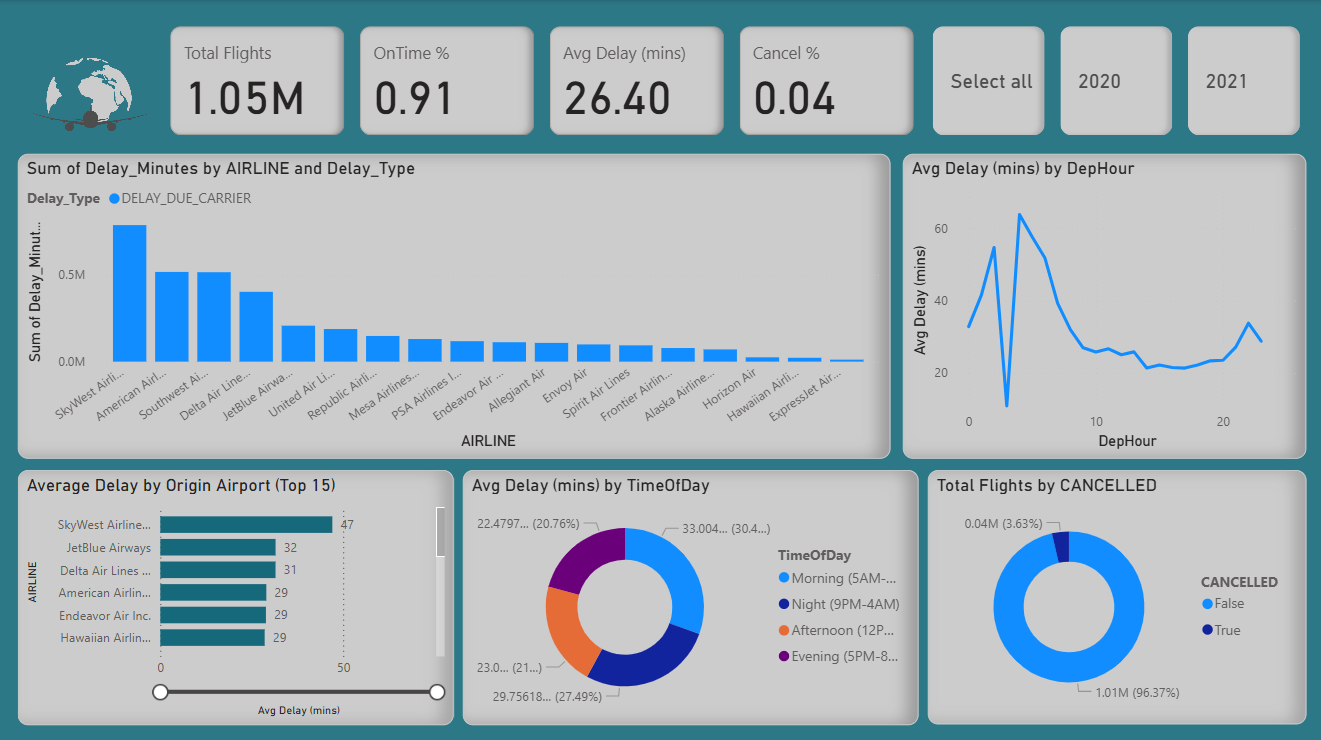

Layout of this report page (visuals, bound fields, positions):
{"tool":"powerbi","page":{"name":"Page_2","canvas":[1280,720],"ordinal":1},"visuals":[{"type":"image","box":[0,0,173.7,179.8],"z":0},{"type":"cardVisual","fields":{"Data":["Flights.Total Flights","Flights.OnTime %","Flights.Avg Delay (mins)","Flights.Cancel %"]},"box":[160.5,20.5,727.5,115.8],"z":1000},{"type":"advancedSlicerVisual","fields":{"Values":["Flights.Year"]},"box":[896.4,20.5,365.6,115.8],"z":2000},{"type":"clusteredColumnChart","fields":{"Category":["Flights.AIRLINE"],"Y":["Sum(Flights.Delay_Minutes)"]},"box":[18.1,148.4,842.1,294.4],"z":3000},{"type":"clusteredBarChart","title":"Average Delay by Origin Airport (Top 15)","fields":{"Category":["Flights.AIRLINE"],"Y":["Flights.Avg Delay (mins)"]},"box":[18.1,453.6,421,246.1],"z":4000},{"type":"donutChart","fields":{"Y":["Flights.Avg Delay (mins)"],"Category":["Flights.TimeOfDay"]},"box":[447.6,453.6,440.4,246.1],"z":5000},{"type":"lineChart","fields":{"Category":["Flights.DepHour"],"Y":["Flights.Avg Delay (mins)"]},"box":[872.3,148.4,389.7,294.4],"z":6000},{"type":"donutChart","fields":{"Y":["Flights.Total Flights"],"Category":["Flights.CANCELLED"]},"box":[896.4,454.2,366,245.6],"z":7001}]}

Visuals, with their boxes in screenshot pixels (x1, y1, x2, y2), scaled from the page's 1280x720 canvas onto the 1321x740 screenshot:
image: BBox(0, 0, 179, 185)
cardVisual - Flights.Total Flights x Flights.OnTime %: BBox(166, 21, 916, 140)
advancedSlicerVisual - Flights.Year: BBox(925, 21, 1302, 140)
clusteredColumnChart - Flights.AIRLINE x Sum(Flights.Delay_Minutes): BBox(19, 153, 888, 455)
"Average Delay by Origin Airport (Top 15)" clusteredBarChart: BBox(19, 466, 453, 719)
donutChart - Flights.Avg Delay (mins) x Flights.TimeOfDay: BBox(462, 466, 916, 719)
lineChart - Flights.DepHour x Flights.Avg Delay (mins): BBox(900, 153, 1302, 455)
donutChart - Flights.Total Flights x Flights.CANCELLED: BBox(925, 467, 1303, 719)
